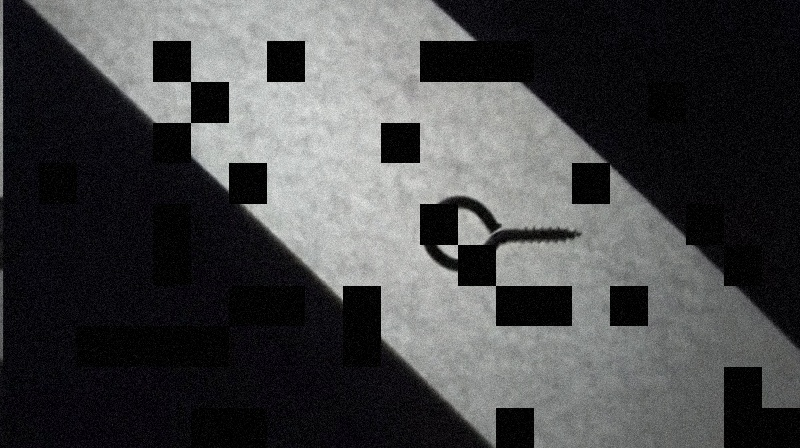O001: (416, 194, 585, 272)
